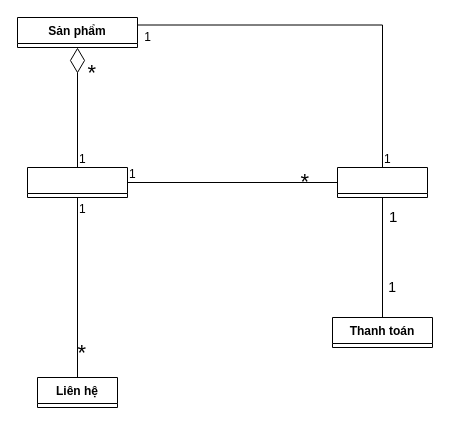
Some shapes in this 450 by 425 pixel diagram are drawn without their labels. Here are the shapes that lost their labels. From the top down, the centre of each, then its label:
At (77,182): "Khách hàng".
At (382,182): "Đơn hàng".
